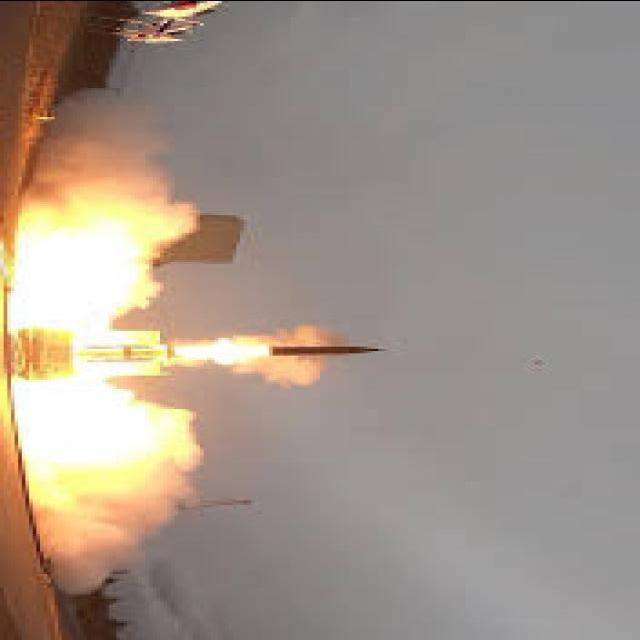missile: (257, 339, 391, 361)
